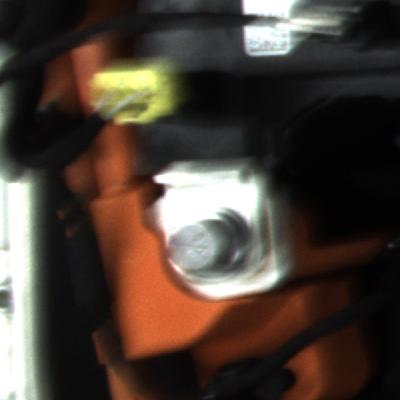nut_b: (161, 211, 258, 289)
